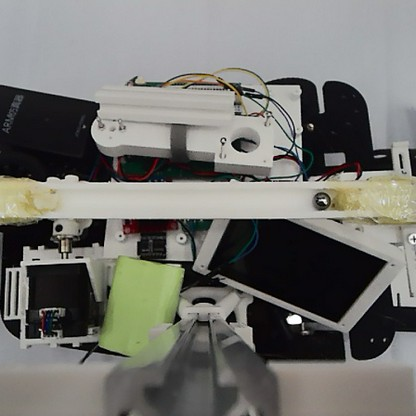ironball: (310, 190, 332, 209)
